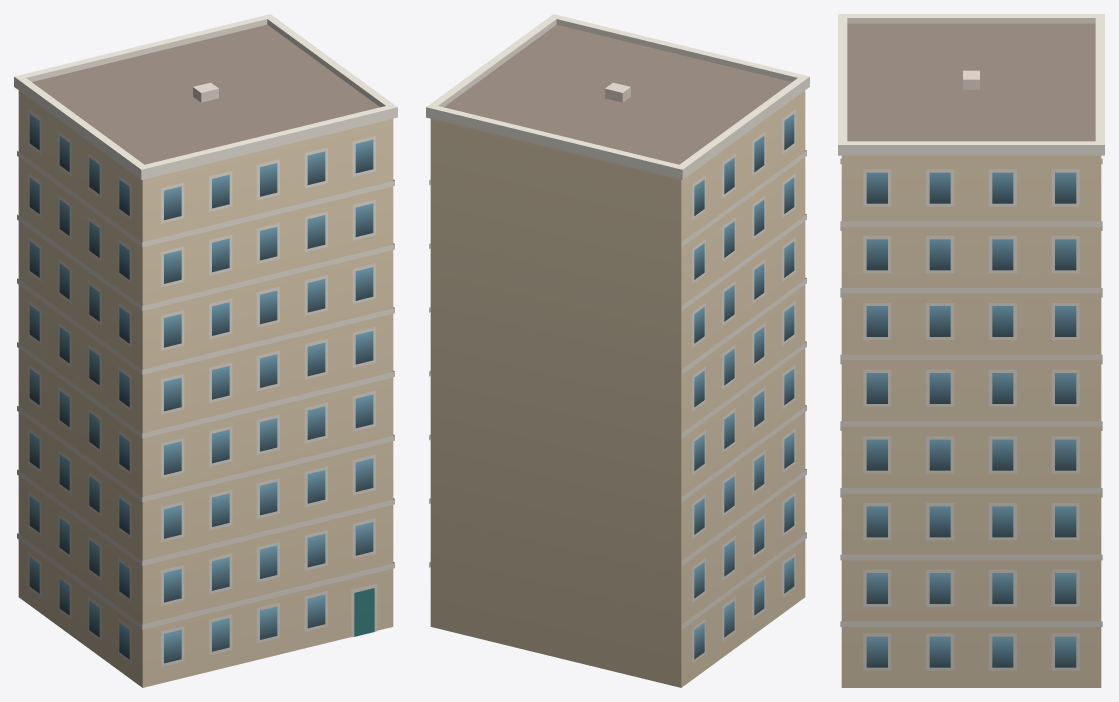
File: sky6_far.glb
The picture shows the model from 3 angles, left to right: view 1: azimuth 30°, elevation 25°; view 2: azimuth 150°, elevation 25°; view 3: azimuth 270°, elevation 25°; orthographic projection. The views are drawn at different scales.
Visible parts, largest first — view 1: sky6_far; view 2: sky6_far; view 3: sky6_far.
Part boxes in pixels (box(x1,y1,x2,y2)): sky6_far: box(14, 14, 397, 687); sky6_far: box(426, 14, 809, 687); sky6_far: box(838, 14, 1104, 687).
Bounding box in the file's own units: 14.32 × 27.97 × 12.32.
1 material, 1 textured.
